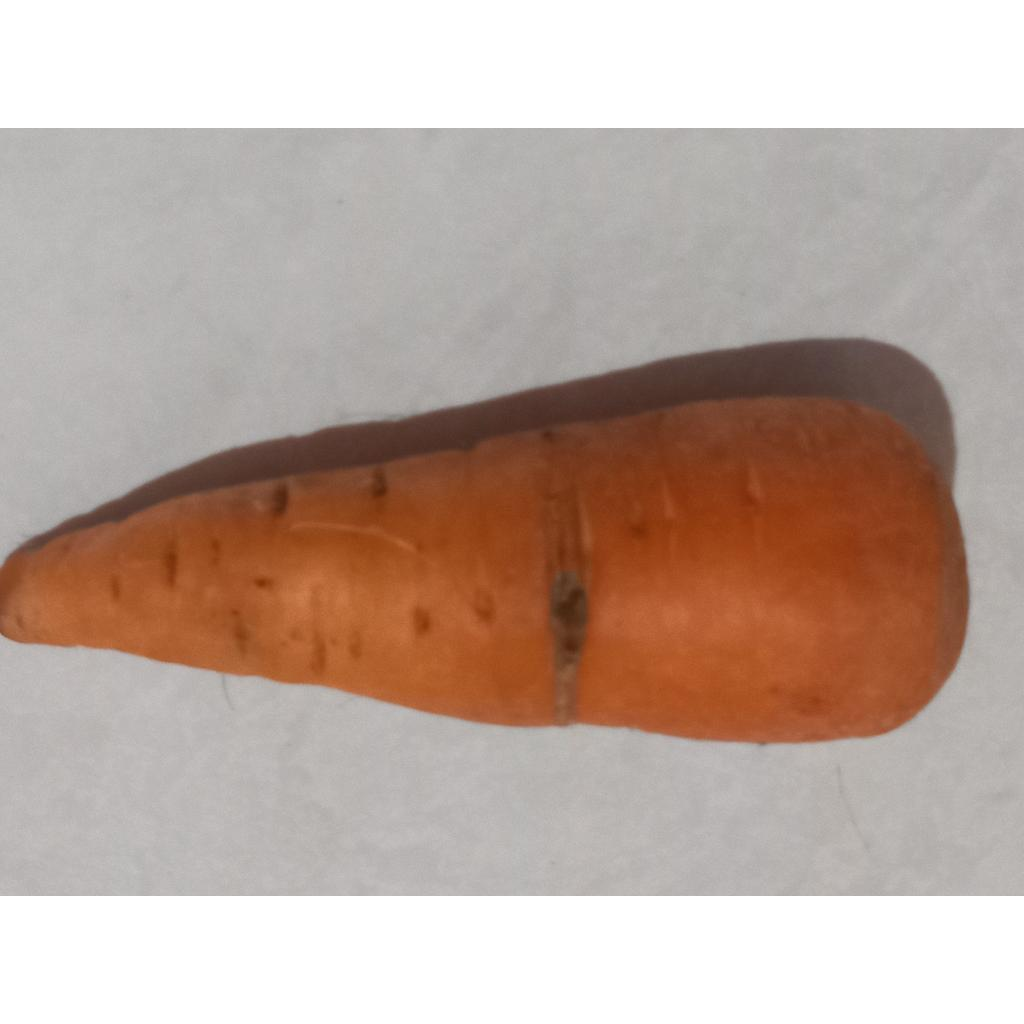carrot: (0, 398, 968, 742)
